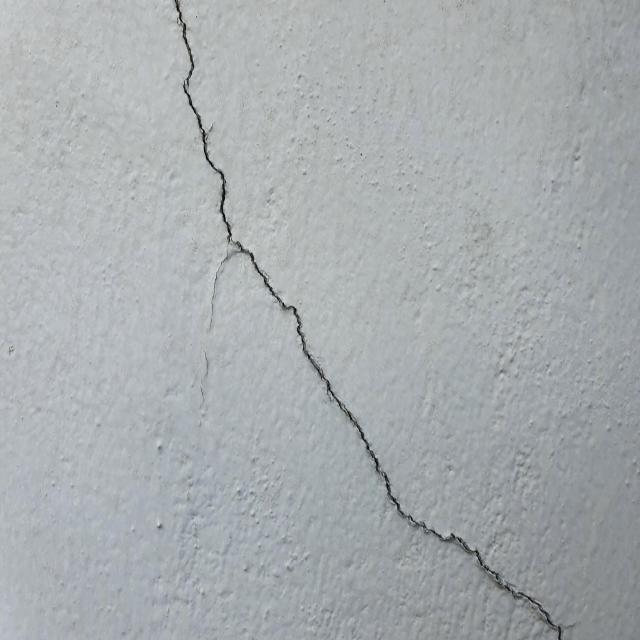SurfaceCrack: (136, 1, 620, 640)
